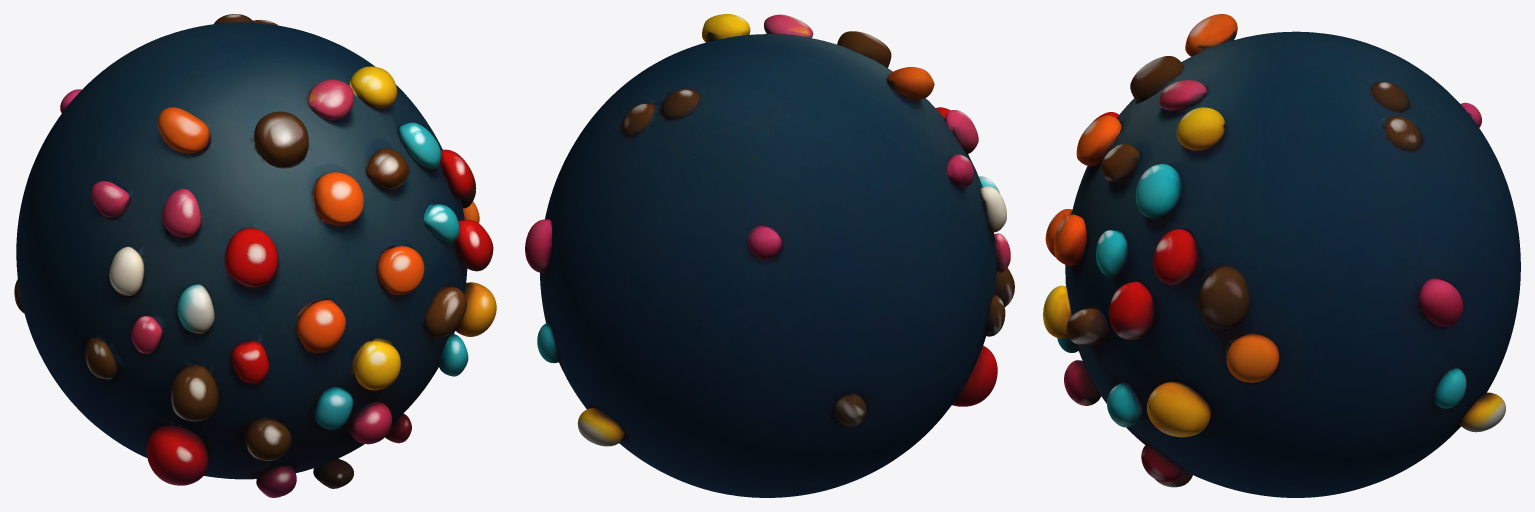
3 renders of one model, left to right at view 1: azimuth 30°, elevation 25°; view 2: azimuth 150°, elevation 25°; view 3: azimuth 270°, elevation 25°, orthographic. The views are drawn at different scales.
Parts seen in each view (by area): view 1: material; view 2: material; view 3: material.
Part boxes in pixels (x1=…): material: x1=14, y1=14, x2=496, y2=497; material: x1=525, y1=14, x2=1014, y2=497; material: x1=1043, y1=14, x2=1520, y2=497.
Size of the model in its own units: 1.03 by 1.01 by 1.03.
Materials: 1 (1 with a texture image).
